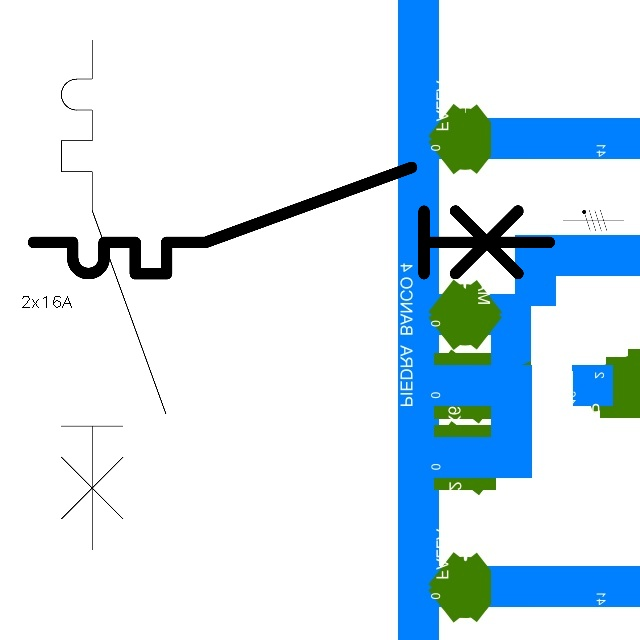interruptor_termomagnetico: (20, 154, 563, 287), (48, 27, 179, 563)
